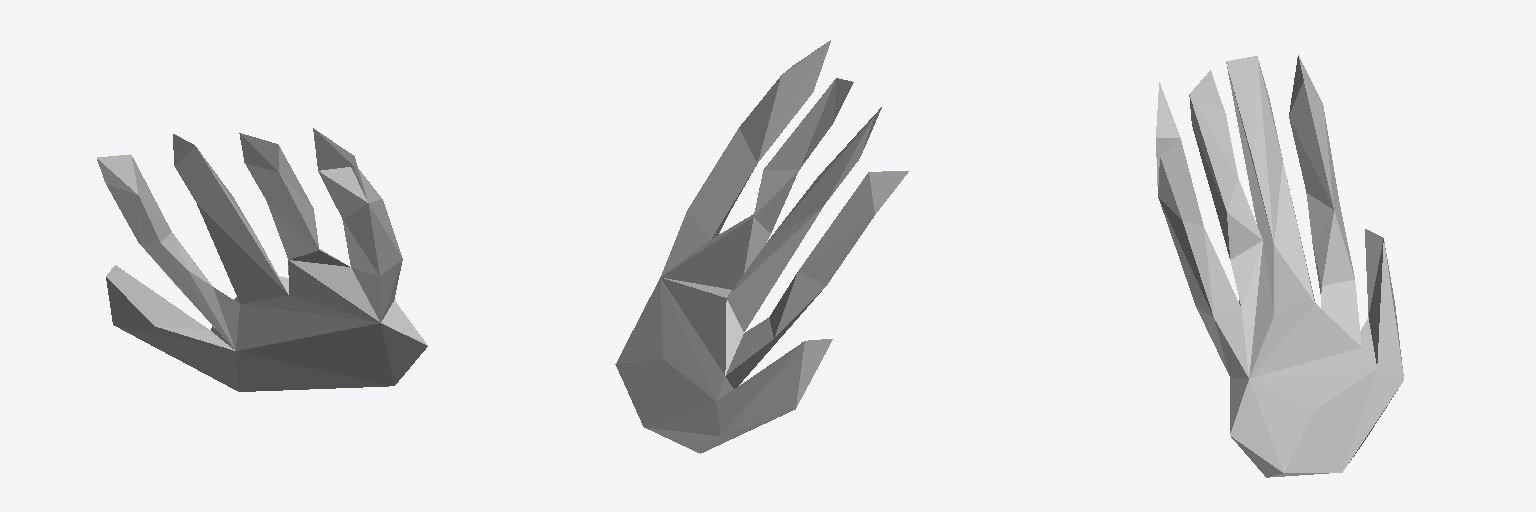
3 views of the same model, side by side, from view 1: azimuth 30°, elevation 25°; view 2: azimuth 150°, elevation 25°; view 3: azimuth 270°, elevation 25° (orthographic).
Parts seen in each view (by area): view 1: unknown; view 2: unknown; view 3: unknown.
Part boxes in pixels (x1,y1,x2,y2): unknown: (97,128,427,391); unknown: (615,40,908,453); unknown: (1156,55,1403,477).
Bounding box in the file's own units: 0.6604 × 0.7257 × 0.4717.